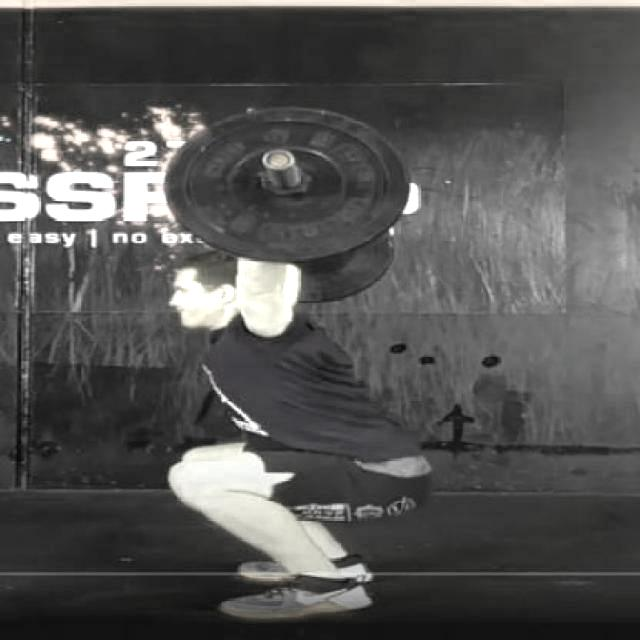barbell: (158, 106, 419, 267)
